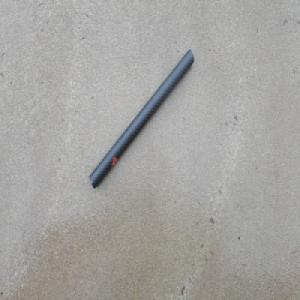LuggagePart: (89, 47, 196, 190)
